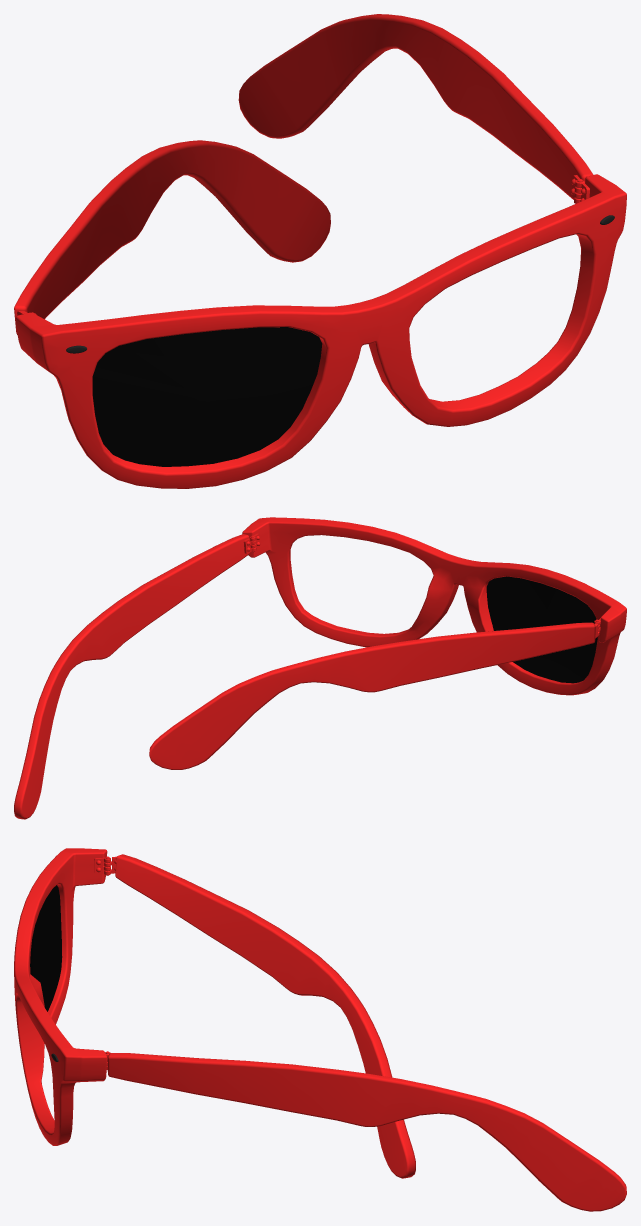
The model's file is GAFAS.FBX.
3 views of the same model, one above another, from view 1: azimuth 30°, elevation 25°; view 2: azimuth 150°, elevation 25°; view 3: azimuth 270°, elevation 25° (orthographic). The views are drawn at different scales.
Visible parts, largest first — view 1: GAFAS; view 2: GAFAS; view 3: GAFAS.
Part boxes in pixels (x1=…): GAFAS: x1=14, y1=14, x2=626, y2=488; GAFAS: x1=14, y1=517, x2=626, y2=819; GAFAS: x1=14, y1=848, x2=626, y2=1211.
Size of the model in its own units: 1.62 by 0.5239 by 1.86.
